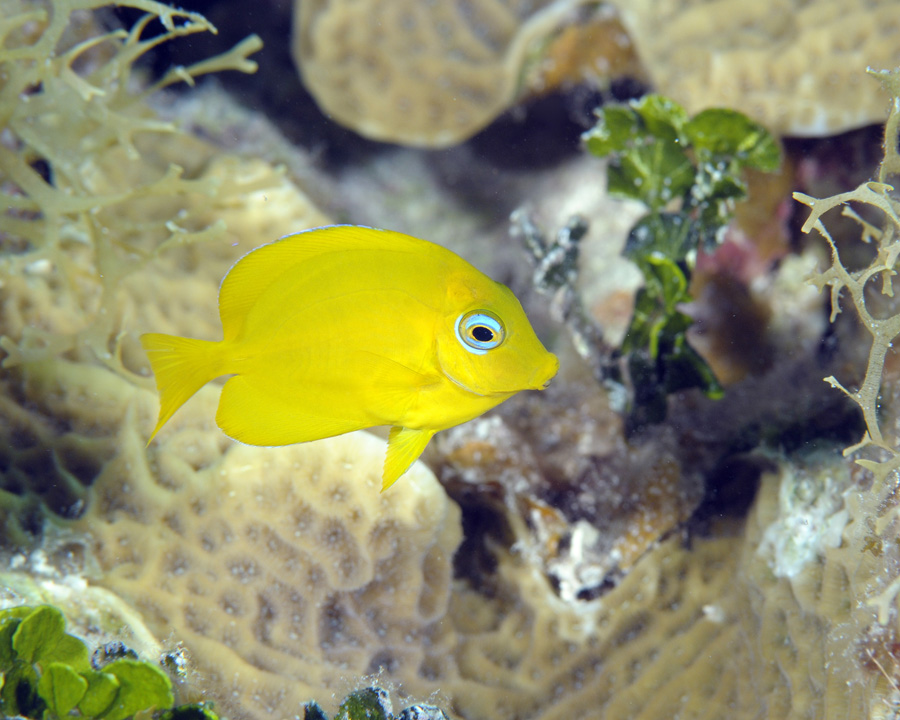Acanthurus_coeruleus: (139, 218, 562, 499)
